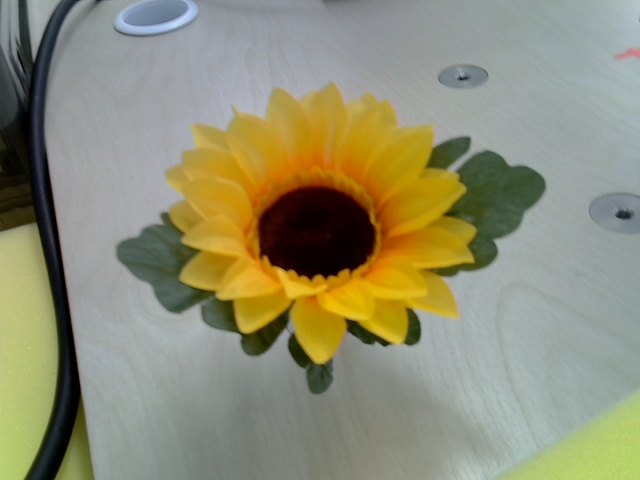해바라기: (167, 85, 476, 356)
